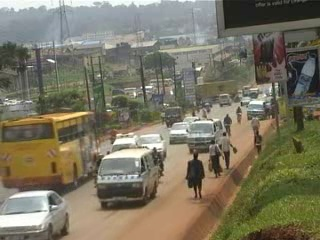Car: (0, 186, 72, 239), (140, 130, 168, 159), (166, 121, 190, 142), (179, 115, 202, 124)
Motorcycle: (106, 127, 117, 142), (201, 102, 212, 113)
